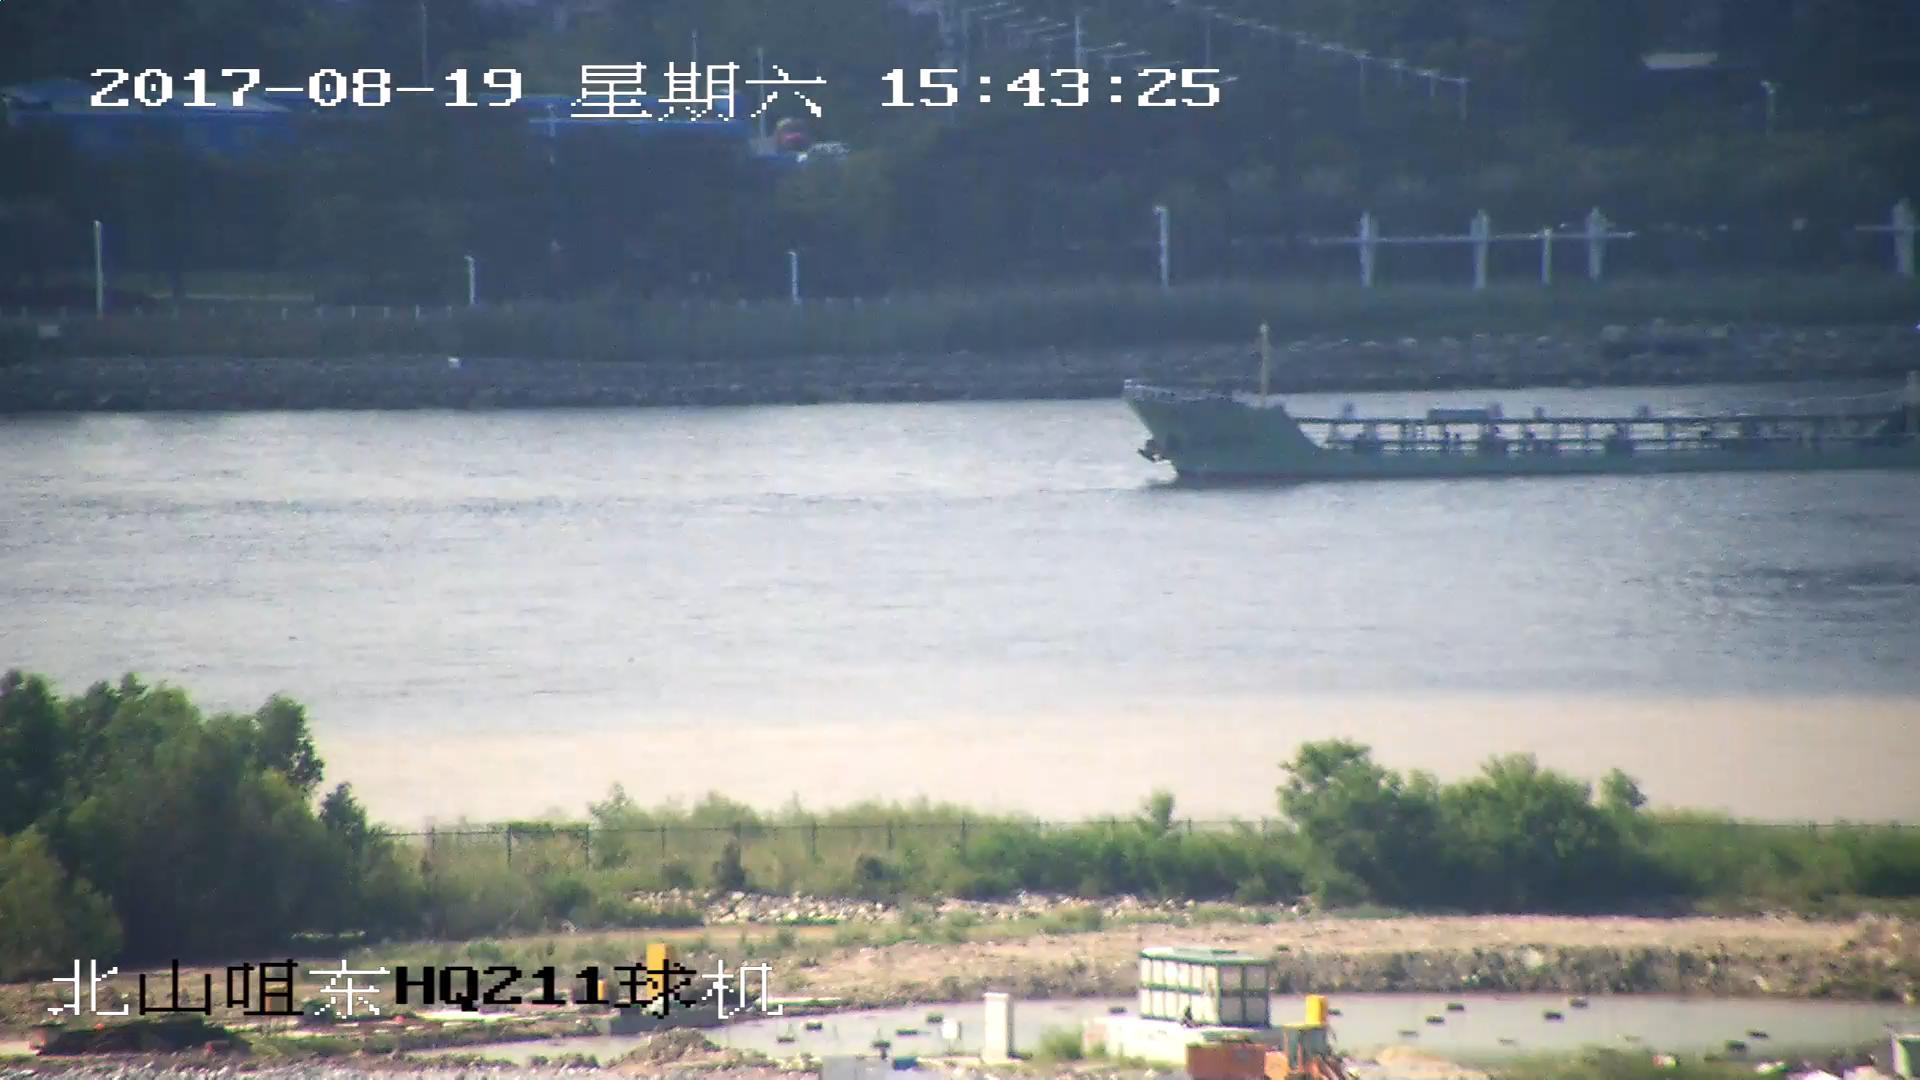Ship: (1130, 327, 1920, 483)
